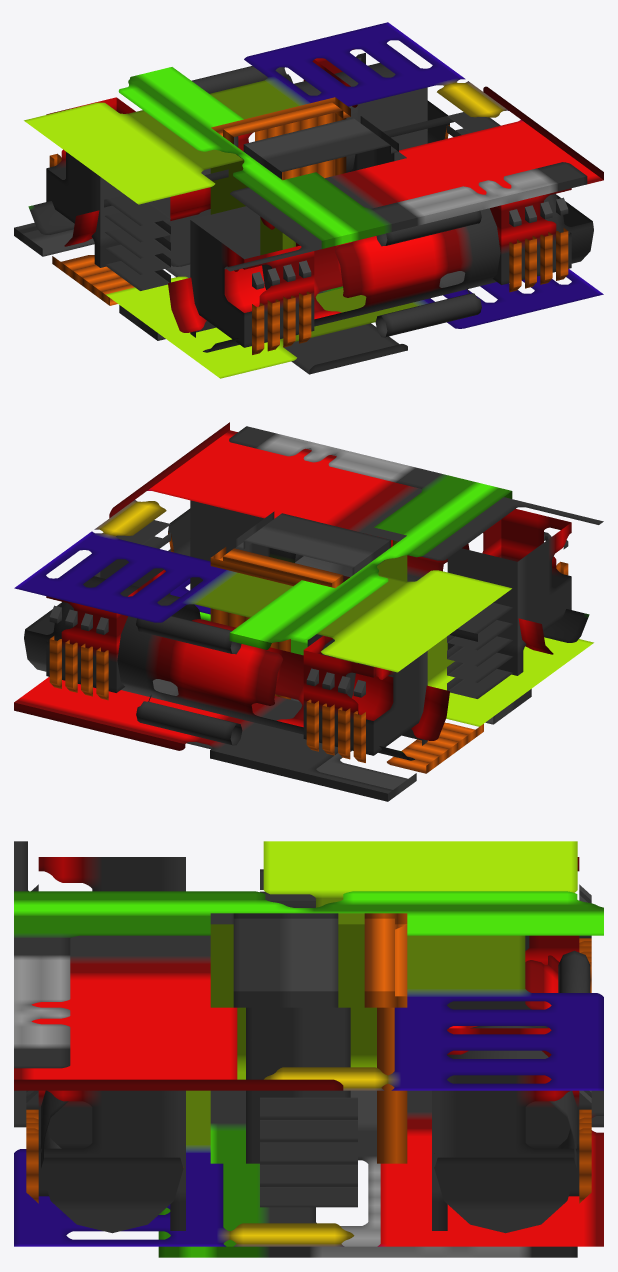
Rendered from heatex.obj.
3 views of the same model, one above another, from view 1: azimuth 30°, elevation 25°; view 2: azimuth 150°, elevation 25°; view 3: azimuth 270°, elevation 25° (orthographic). The views are drawn at different scales.
Visible parts, largest first — view 1: Cube_Cube.001; view 2: Cube_Cube.001; view 3: Cube_Cube.001.
Boxes of the visible parts, x1,y1,x2,y2 form: Cube_Cube.001: (14,22,603,378); Cube_Cube.001: (14,422,603,801); Cube_Cube.001: (14,841,603,1257).
Size of the model in its own units: 3 by 1 by 3.
